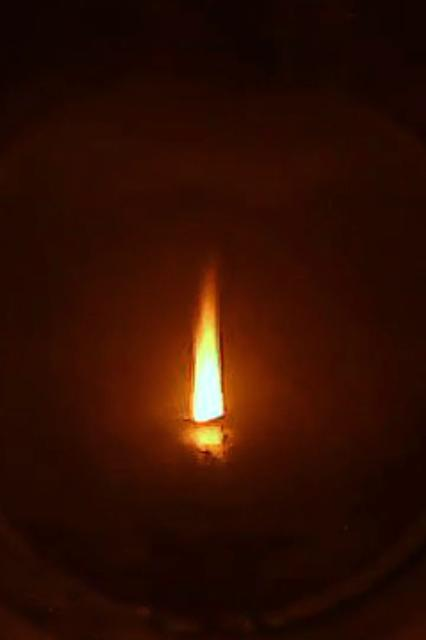burner flame: (190, 256, 226, 426)
